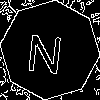N: (25, 25, 66, 74)
